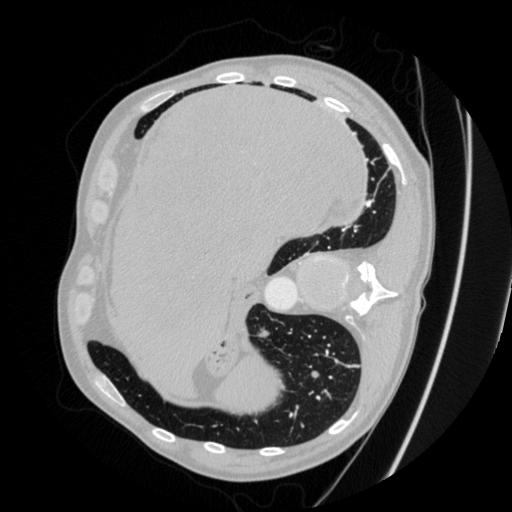nodule: (307, 366, 322, 381)
